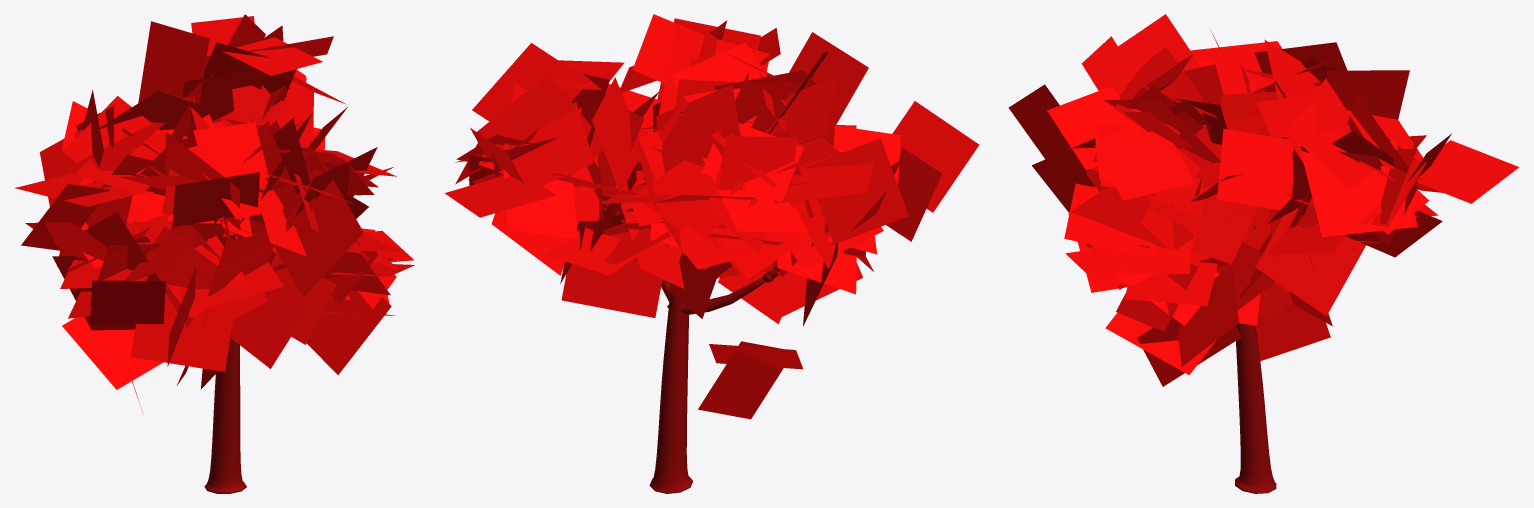
Rendered from tree_leaves_0.glb.
The picture shows the model from 3 angles, left to right: view 1: azimuth 30°, elevation 25°; view 2: azimuth 150°, elevation 25°; view 3: azimuth 270°, elevation 25°; orthographic projection. The views are drawn at different scales.
Parts seen in each view (by area): view 1: tree_leaves_10; view 2: tree_leaves_10; view 3: tree_leaves_10.
Part boxes in pixels (x1=…): tree_leaves_10: x1=15, y1=14, x2=414, y2=493; tree_leaves_10: x1=444, y1=14, x2=979, y2=493; tree_leaves_10: x1=1008, y1=14, x2=1519, y2=493.
Bounding box in the file's own units: 6.54 × 7.04 × 7.65.
